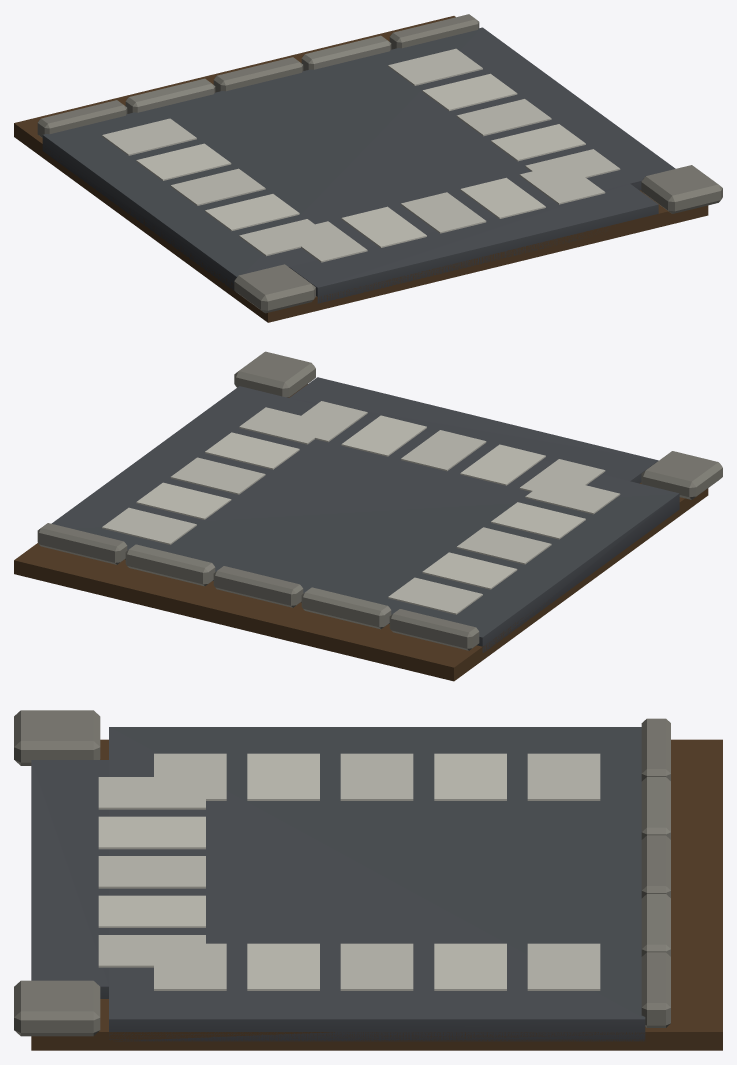
Rendered from road-t-01.glb.
The picture shows the model from 3 angles, top to bottom: view 1: azimuth 30°, elevation 25°; view 2: azimuth 150°, elevation 25°; view 3: azimuth 270°, elevation 25°; orthographic projection. The views are drawn at different scales.
Parts seen in each view (by area): view 1: road_t_01; view 2: road_t_01; view 3: road_t_01.
Boxes of the visible parts, box(x1,y1,x2,y2) form: road_t_01: box(14, 14, 722, 322); road_t_01: box(14, 351, 722, 681); road_t_01: box(14, 710, 722, 1050).
Size of the model in its own units: 4.2 by 0.2799 by 4.1.
